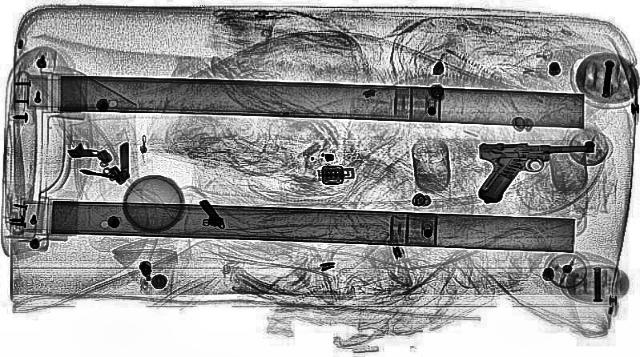Gun: (473, 140, 599, 202)
